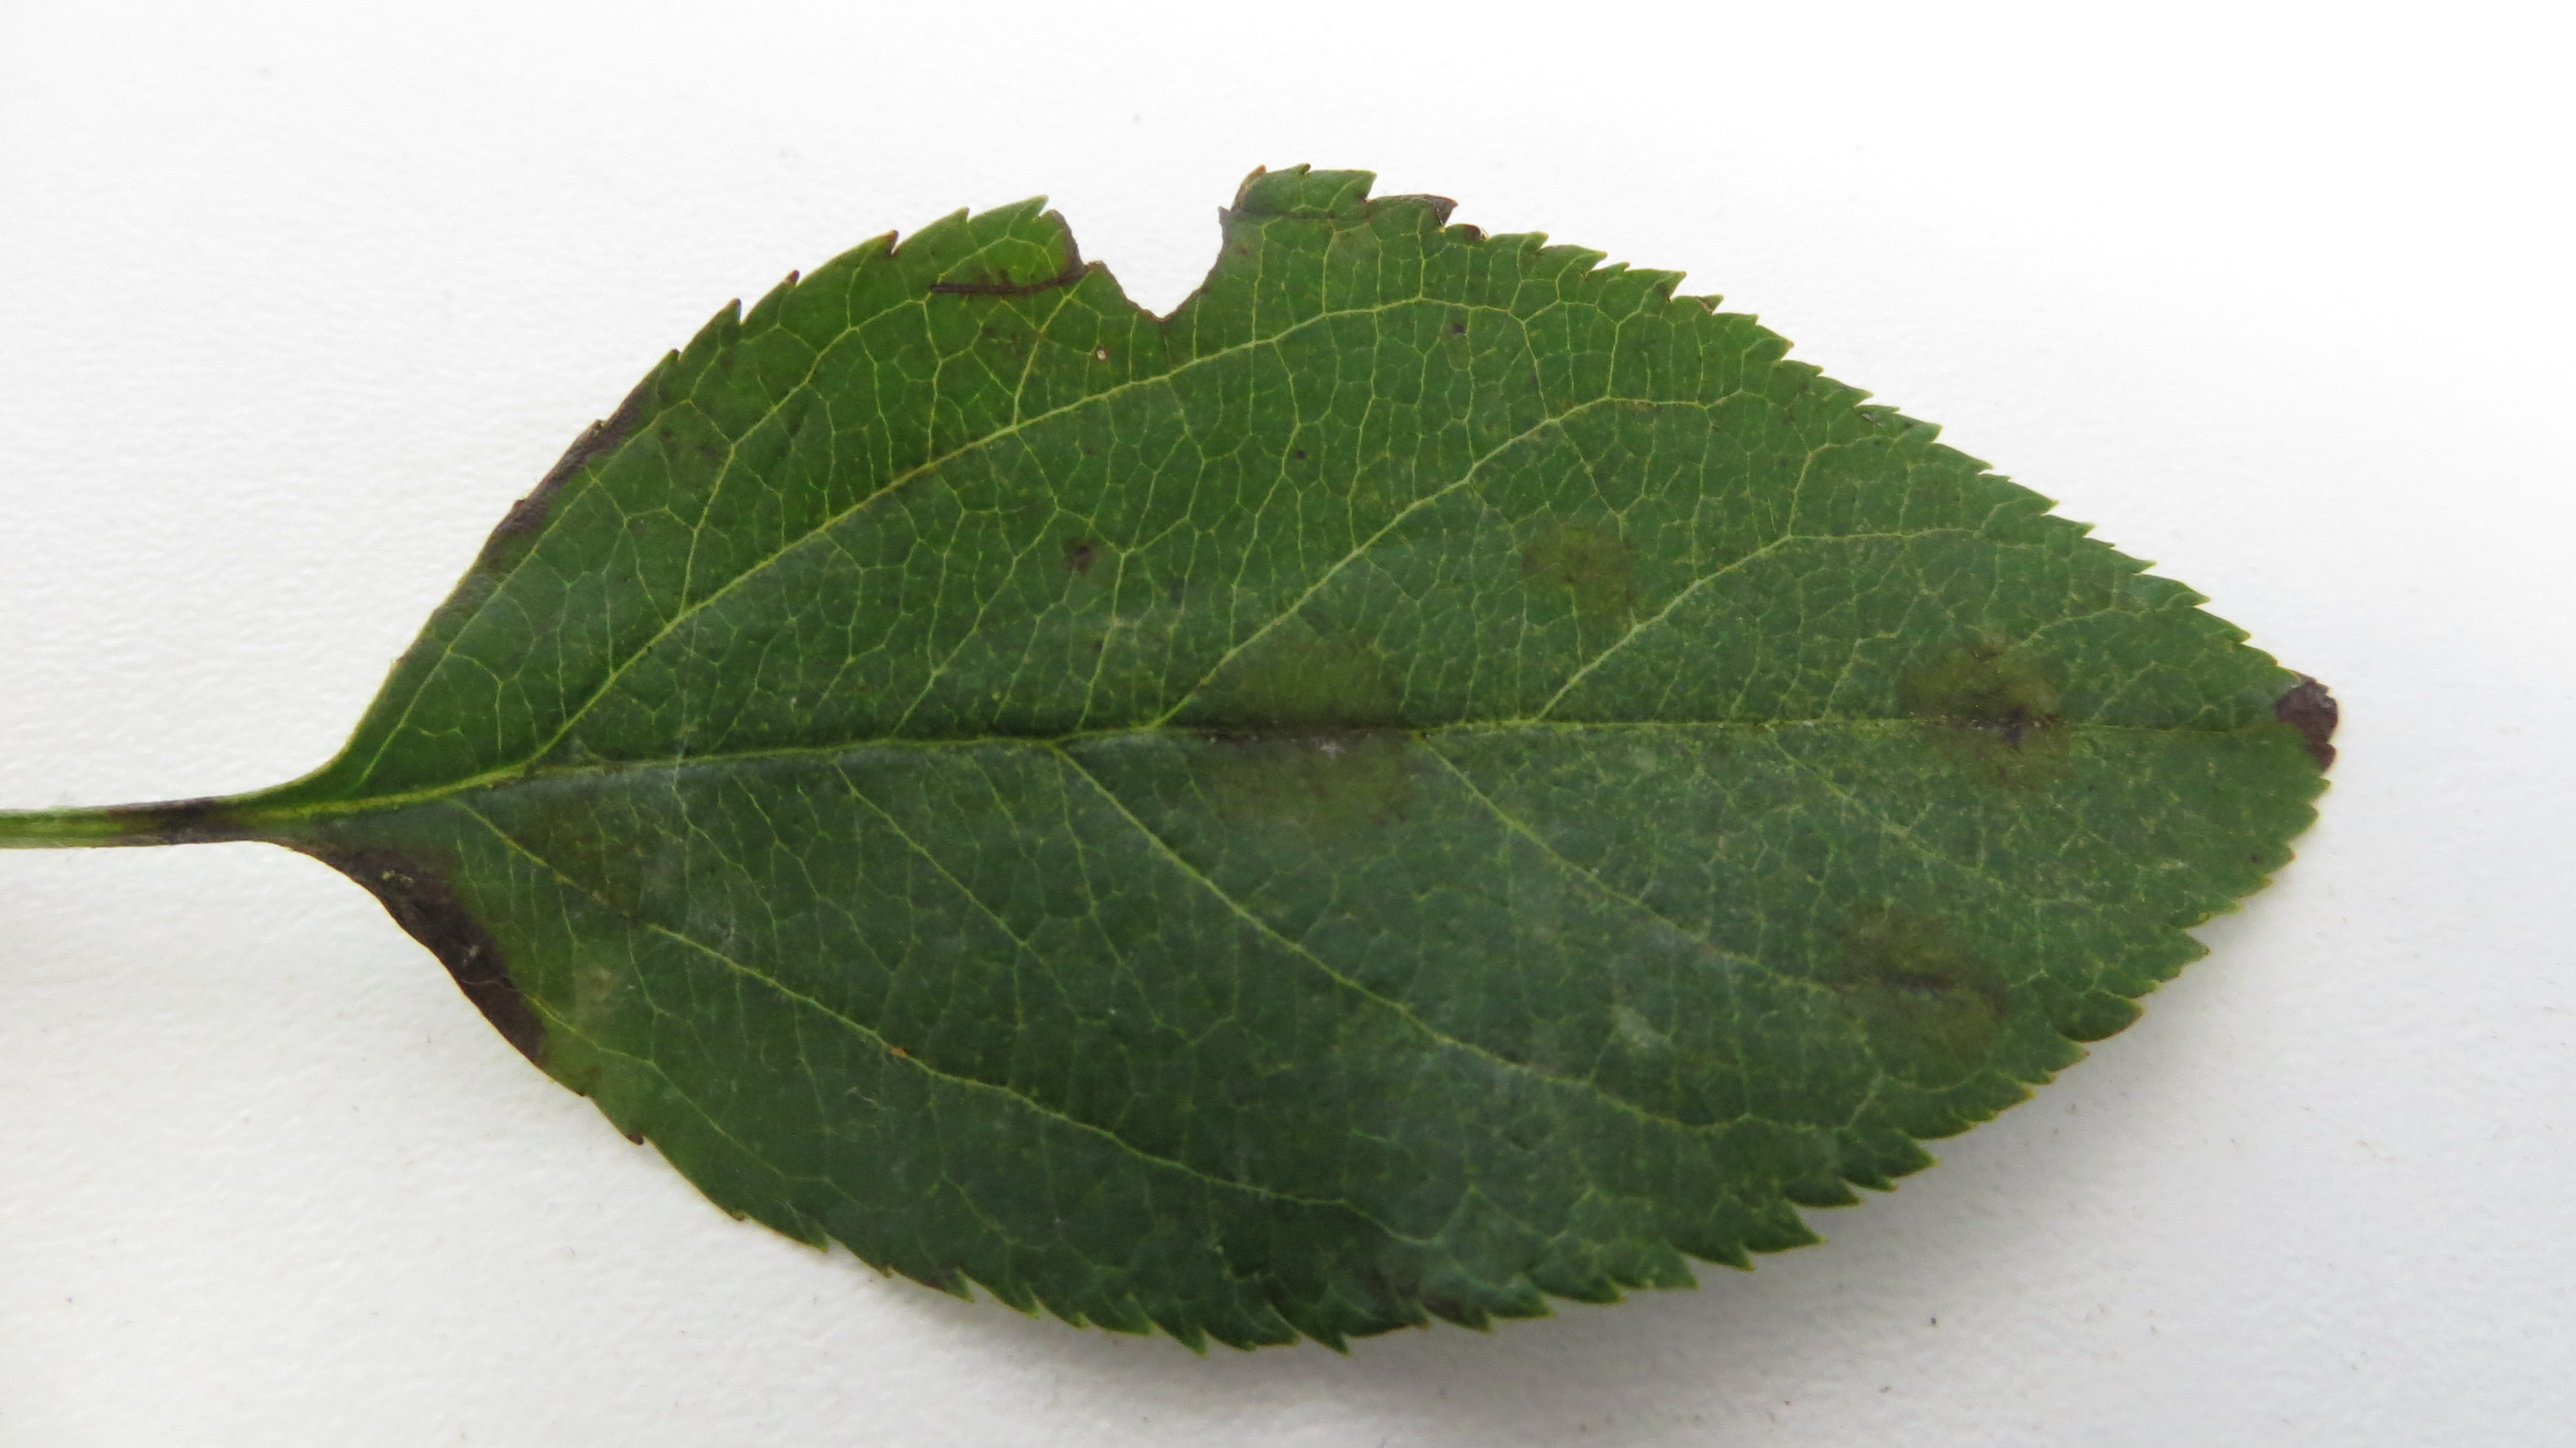sarna: (1189, 627, 1426, 850), (492, 733, 672, 933), (1891, 621, 2074, 797), (1828, 897, 2015, 1055), (1520, 501, 1649, 634), (441, 931, 561, 1060), (336, 839, 474, 951), (932, 243, 1085, 326), (2259, 651, 2350, 770), (1046, 506, 1102, 586)
